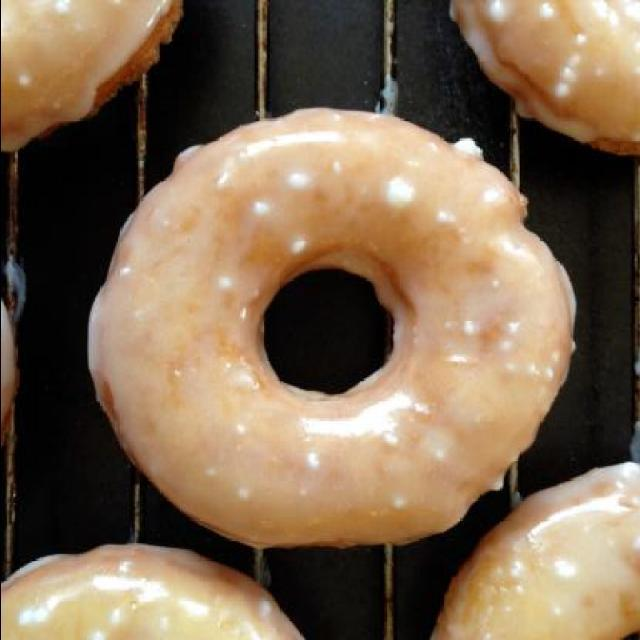Bagel: (85, 107, 578, 555)
